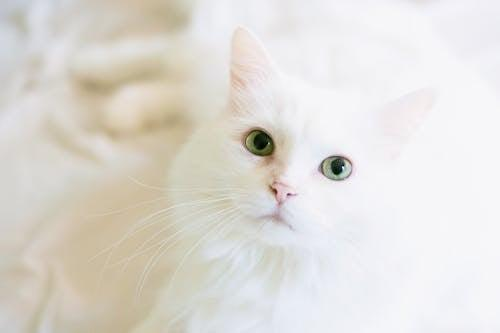kedo: (166, 30, 441, 333)
